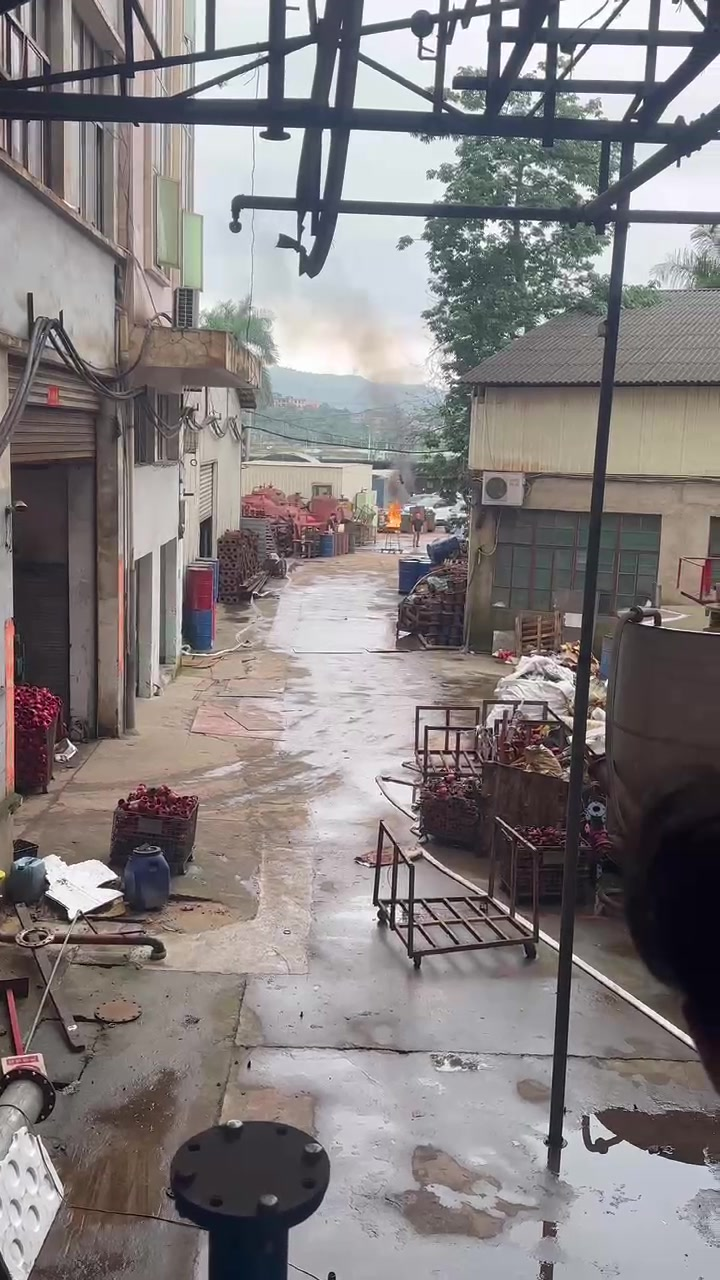fire: (384, 503, 400, 526)
